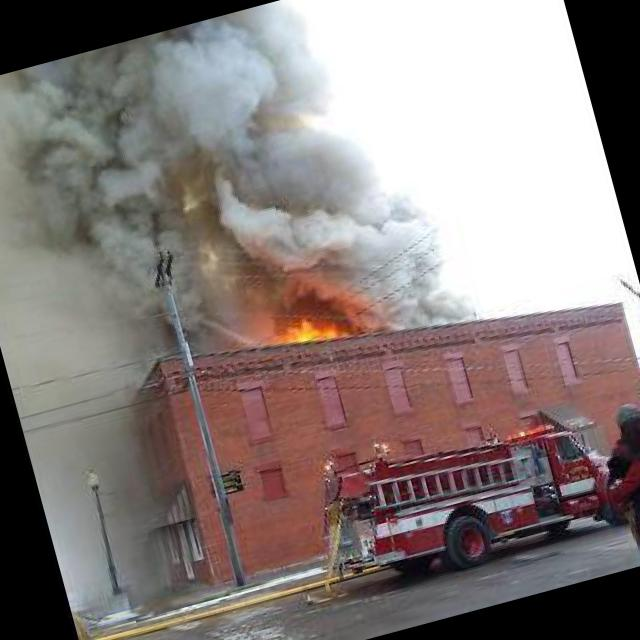Fire: (262, 304, 343, 355)
Smoke: (0, 0, 469, 435)
